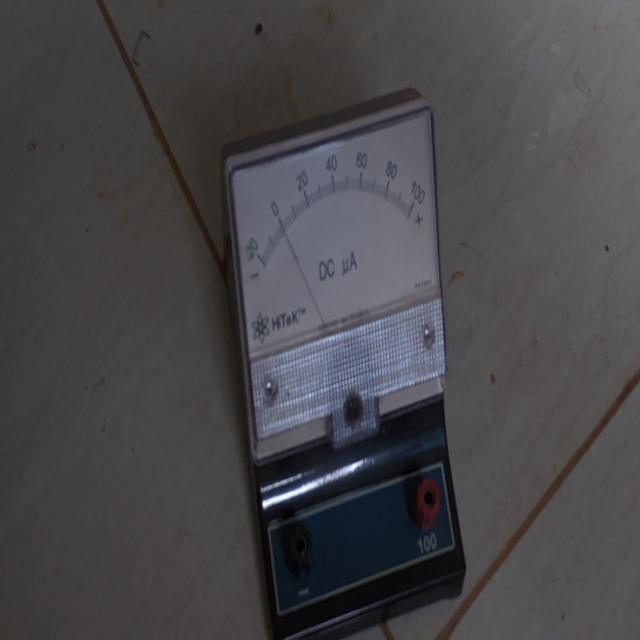Ammeter Analog: (216, 84, 467, 633)
